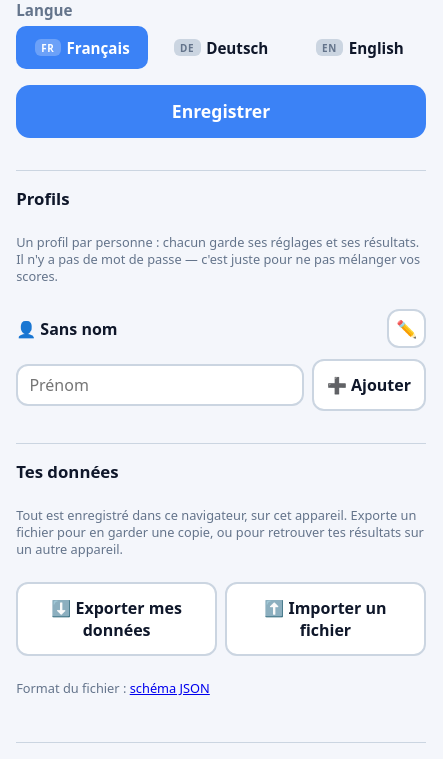
Scenario: creating a profile › appends it without switching to it
(page scrolled)
In the field labelled "Prénom": (160, 385) [16,364,304,406], type "Tom"
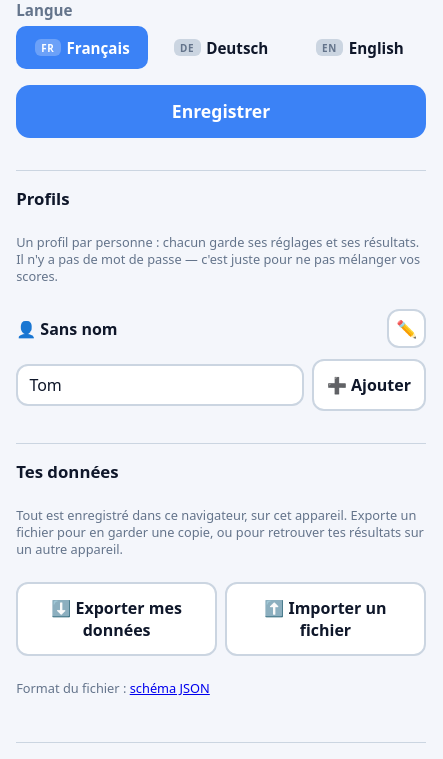
Click the button "➕ Ajouter": (369, 385) [312,359,426,411]
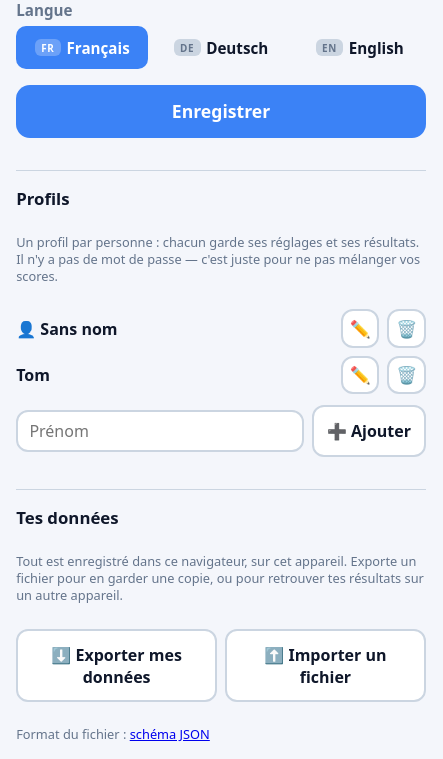
Result: the text "Tom" is shown at [16,364,50,386]
